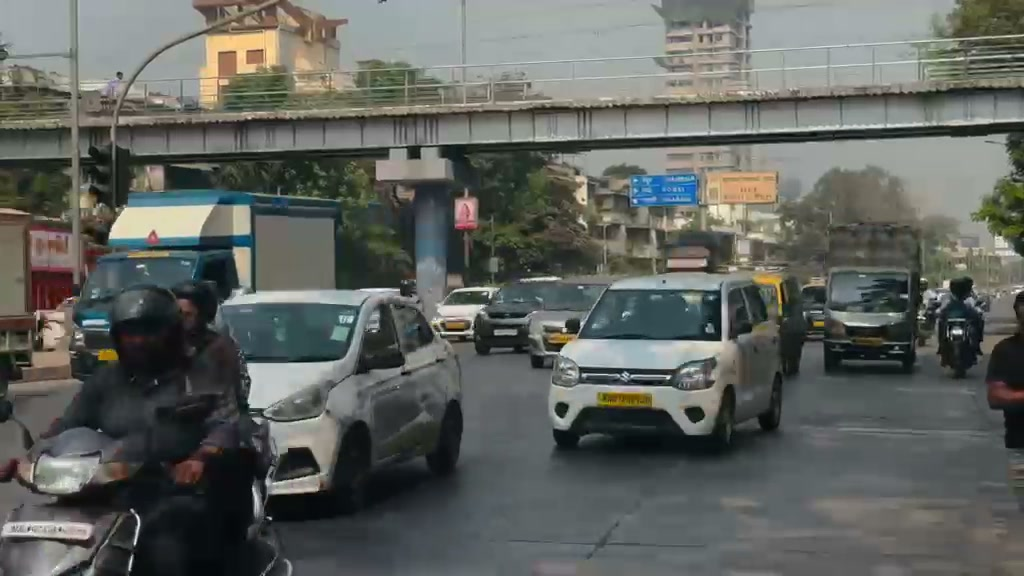car: (216, 288, 465, 517), (546, 272, 786, 452), (526, 280, 610, 368), (472, 277, 563, 354), (526, 290, 592, 369), (432, 287, 501, 338), (800, 284, 827, 333)
motorcycle: (1, 413, 296, 571), (934, 308, 982, 378)
pedestrian: (38, 286, 235, 567), (171, 280, 251, 422), (986, 292, 1024, 451), (934, 276, 986, 364)
truck: (69, 189, 341, 378), (822, 231, 921, 374)
